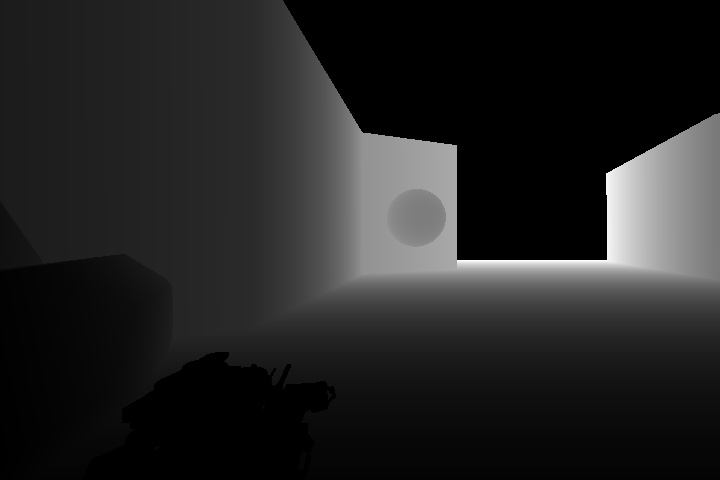mushroom: (385, 186, 447, 249)
